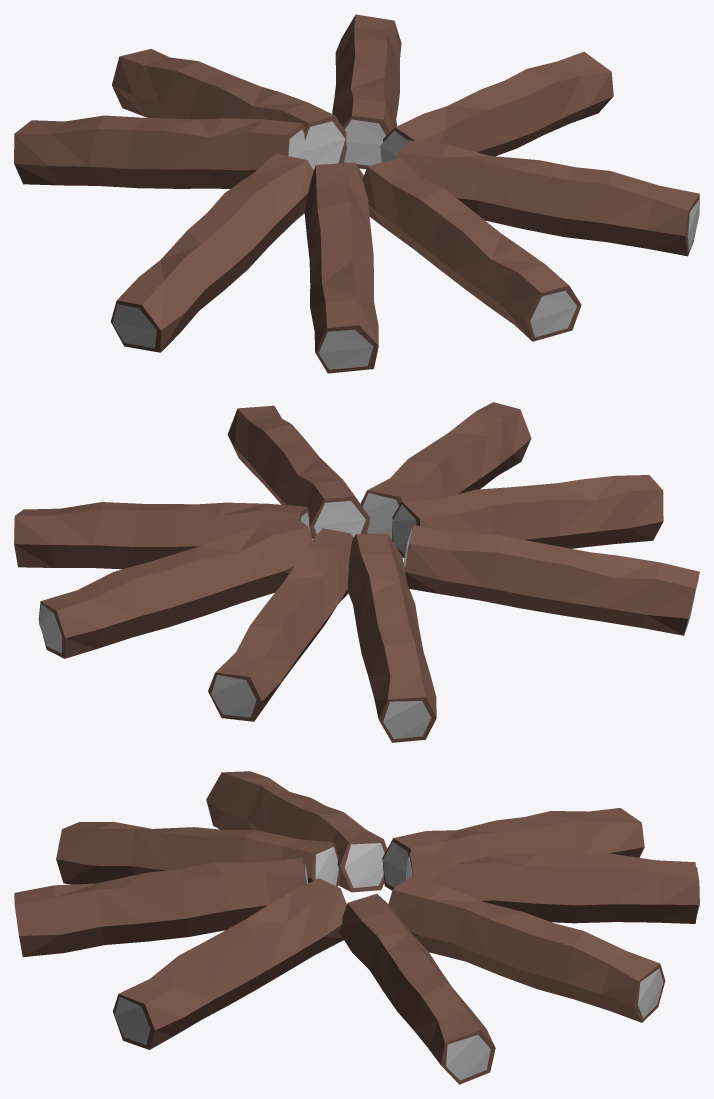
3 views of the same model, one above another, from view 1: azimuth 30°, elevation 25°; view 2: azimuth 150°, elevation 25°; view 3: azimuth 270°, elevation 25° (orthographic). The views are drawn at different scales.
Visible parts, largest first — view 1: group832670247, group1032162379, group1934332834, group1677781975, group450218713, group173961298, group1086154624, group1308535008; view 2: group1934332834, group1308535008, group450218713, group173961298, group1032162379, group1086154624, group1677781975, group832670247; view 3: group1308535008, group1677781975, group832670247, group1086154624, group173961298, group450218713, group1032162379, group1934332834.
Part boxes in pixels (x1=…): group832670247: x1=397, y1=140, x2=699, y2=256; group1032162379: x1=14, y1=115, x2=306, y2=188; group1934332834: x1=110, y1=153, x2=313, y2=352; group1677781975: x1=362, y1=158, x2=581, y2=341; group450218713: x1=304, y1=162, x2=378, y2=373; group173961298: x1=380, y1=51, x2=613, y2=162; group1086154624: x1=112, y1=49, x2=346, y2=170; group1308535008: x1=332, y1=14, x2=401, y2=169; group1934332834: x1=403, y1=525, x2=699, y2=635; group1308535008: x1=38, y1=517, x2=312, y2=658; group450218713: x1=392, y1=475, x2=663, y2=558; group173961298: x1=14, y1=502, x2=310, y2=569; group1032162379: x1=347, y1=533, x2=436, y2=742; group1086154624: x1=208, y1=528, x2=353, y2=721; group1677781975: x1=360, y1=402, x2=531, y2=540; group832670247: x1=227, y1=405, x2=369, y2=538; group1308535008: x1=388, y1=876, x2=665, y2=1022; group1677781975: x1=14, y1=857, x2=308, y2=956; group832670247: x1=113, y1=878, x2=346, y2=1049; group1086154624: x1=406, y1=851, x2=699, y2=923; group173961298: x1=339, y1=894, x2=495, y2=1084; group450218713: x1=56, y1=822, x2=339, y2=886; group1032162379: x1=382, y1=808, x2=644, y2=890; group1934332834: x1=206, y1=771, x2=386, y2=892.
Size of the model in its own units: 0.96 by 0.1557 by 0.987.
